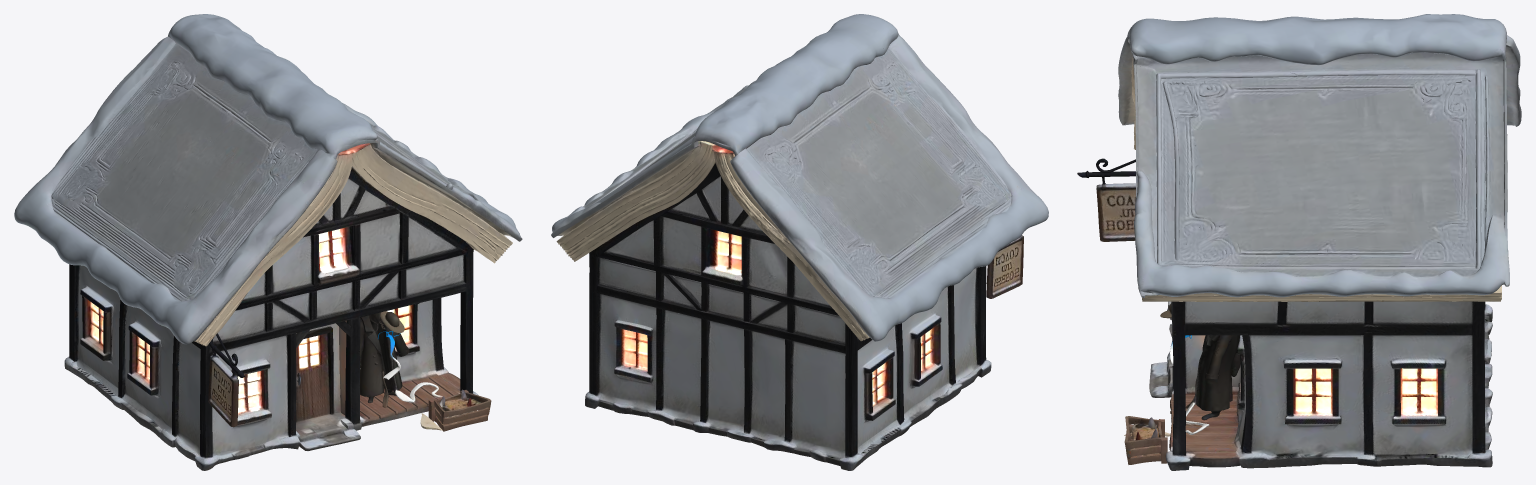
Rendered from invisible-man.glb.
The picture shows the model from 3 angles, left to right: view 1: azimuth 30°, elevation 25°; view 2: azimuth 150°, elevation 25°; view 3: azimuth 270°, elevation 25°; orthographic projection. The views are drawn at different scales.
Visible parts, largest first — view 1: model; view 2: model; view 3: model.
Part boxes in pixels (box(x1,y1,x2,y2)): model: box(14, 14, 522, 470); model: box(551, 14, 1048, 470); model: box(1077, 14, 1521, 470).
Size of the model in its own units: 1.9 by 1.69 by 1.82.
1 material, 1 textured.
